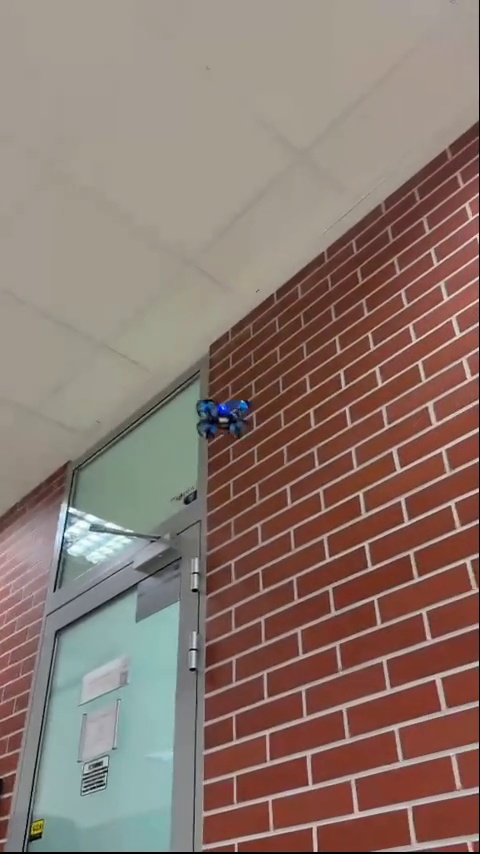drone: (197, 397, 260, 449)
